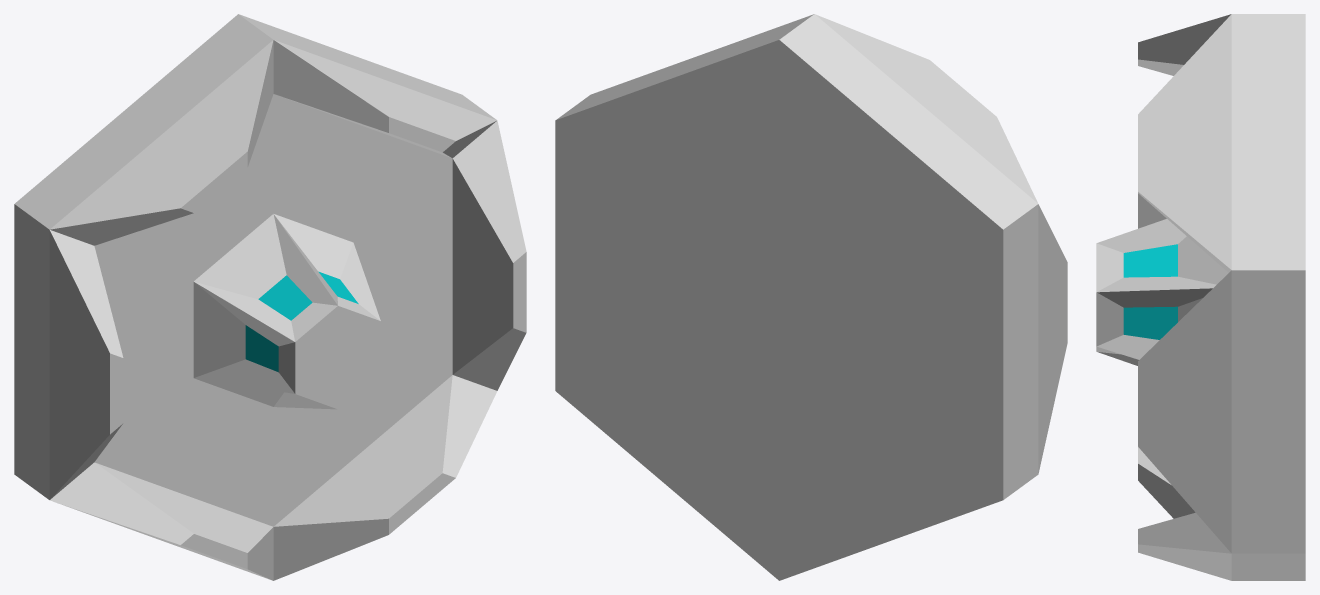
The model's file is Hexagon decoration5.1.fbx.
The picture shows the model from 3 angles, left to right: view 1: azimuth 30°, elevation 25°; view 2: azimuth 150°, elevation 25°; view 3: azimuth 270°, elevation 25°; orthographic projection. The views are drawn at different scales.
Visible parts, largest first — view 1: Circle.000; view 2: Circle.000; view 3: Circle.000.
Boxes of the visible parts, left/top/right/bottom form: Circle.000: left=14, top=14, right=526, bottom=580; Circle.000: left=555, top=14, right=1067, bottom=580; Circle.000: left=1096, top=14, right=1305, bottom=580.
Size of the model in its own units: 173 by 200 by 66.82.
